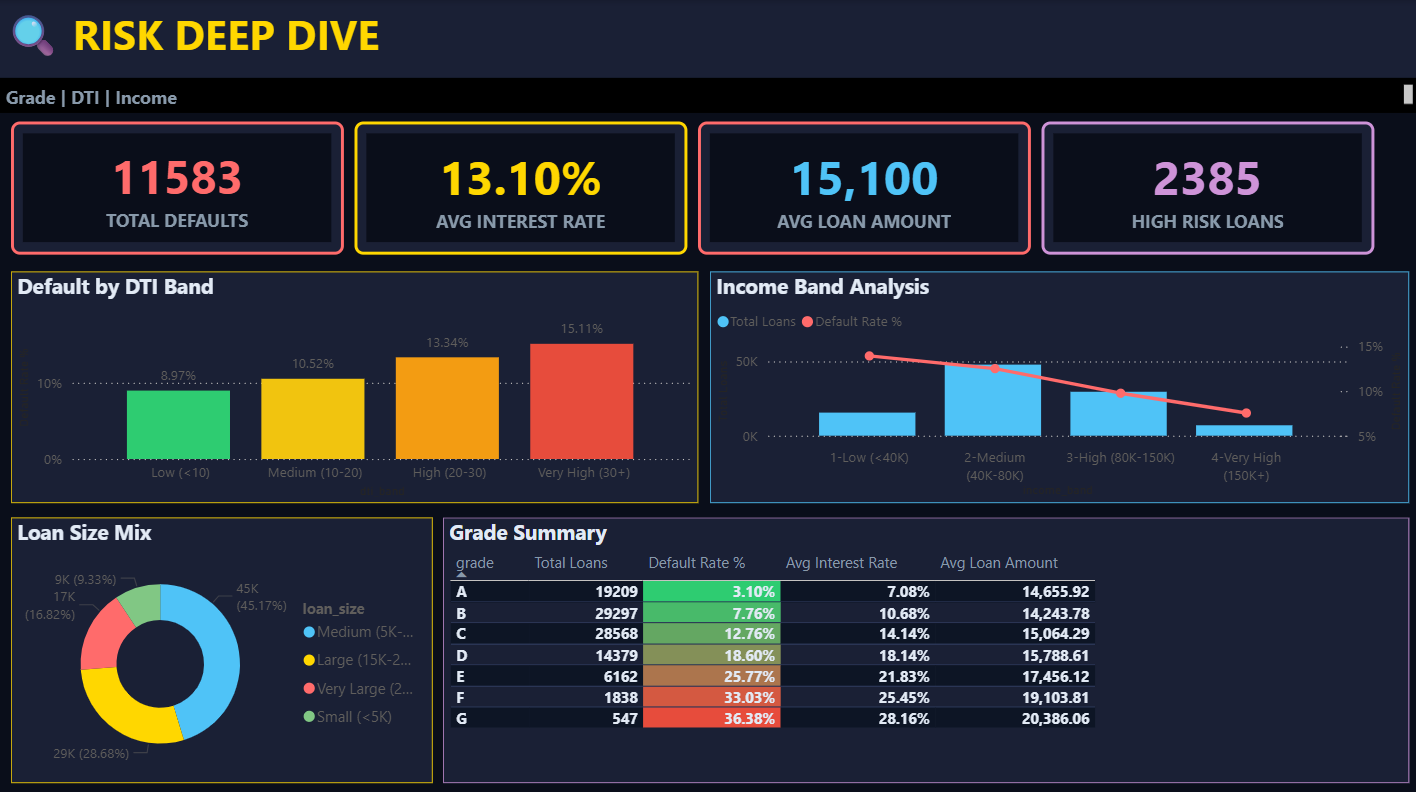

Layout of this report page (visuals, bound fields, positions):
{"tool":"powerbi","page":{"name":"Page 2","canvas":[1280,720],"ordinal":1},"visuals":[{"type":"shape","box":[0,0,1280,70],"z":0,"group":"g1"},{"type":"textbox","box":[0,70,1280,31.4],"z":0},{"type":"group","id":"g1","title":"Group 1","box":[0,0,1279.5,69.7],"z":1000},{"type":"textbox","box":[0,0,676.8,60.6],"z":1000,"group":"g1"},{"type":"cardVisual","fields":{"Data":["loan_clean.Total Default Loans"]},"box":[10.8,110,300,120],"z":2000},{"type":"cardVisual","fields":{"Data":["loan_clean.Avg Interest Rate"]},"box":[320,110,300,120],"z":3000},{"type":"cardVisual","fields":{"Data":["loan_clean.Avg Loan Amount"]},"box":[630,110,300,120],"z":4000},{"type":"cardVisual","fields":{"Data":["loan_clean.High Risk Loans"]},"box":[940,110,300,120],"z":5000},{"type":"clusteredColumnChart","title":"Default by DTI Band","fields":{"Category":["loan_clean.dti_band"],"Y":["loan_clean.Default Rate %"]},"box":[10.6,245.3,619.3,209],"z":6000},{"type":"lineClusteredColumnComboChart","title":"Income Band Analysis","fields":{"Category":["loan_clean.income_band"],"Y":["loan_clean.Total Loans"],"Y2":["loan_clean.Default Rate %"]},"box":[640.5,245.3,629.9,209],"z":7000},{"type":"donutChart","title":" Loan Size Mix","fields":{"Y":["loan_clean.Total Loans"],"Category":["loan_clean.loan_size"]},"box":[10.6,466.4,380.1,239.2],"z":8000},{"type":"tableEx","title":"Grade Summary","fields":{"Values":["loan_clean.grade","loan_clean.Total Loans","loan_clean.Default Rate %","loan_clean.Avg Interest Rate","loan_clean.Avg Loan Amount"]},"box":[400,466.4,870.7,239.2],"z":9000}]}

Visuals, with their boxes in screenshot pixels (x1, y1, x2, y2), scaled from the page's 1280x720 canvas onto the 1416x792 screenshot:
shape: {"left": 0, "top": 0, "right": 1415, "bottom": 77}
textbox: {"left": 0, "top": 77, "right": 1415, "bottom": 112}
"Group 1" group: {"left": 0, "top": 0, "right": 1415, "bottom": 77}
textbox: {"left": 0, "top": 0, "right": 749, "bottom": 67}
cardVisual - loan_clean.Total Default Loans: {"left": 12, "top": 121, "right": 344, "bottom": 253}
cardVisual - loan_clean.Avg Interest Rate: {"left": 354, "top": 121, "right": 686, "bottom": 253}
cardVisual - loan_clean.Avg Loan Amount: {"left": 697, "top": 121, "right": 1029, "bottom": 253}
cardVisual - loan_clean.High Risk Loans: {"left": 1040, "top": 121, "right": 1372, "bottom": 253}
"Default by DTI Band" clusteredColumnChart: {"left": 12, "top": 270, "right": 697, "bottom": 500}
"Income Band Analysis" lineClusteredColumnComboChart: {"left": 709, "top": 270, "right": 1405, "bottom": 500}
" Loan Size Mix" donutChart: {"left": 12, "top": 513, "right": 432, "bottom": 776}
"Grade Summary" tableEx: {"left": 442, "top": 513, "right": 1406, "bottom": 776}
